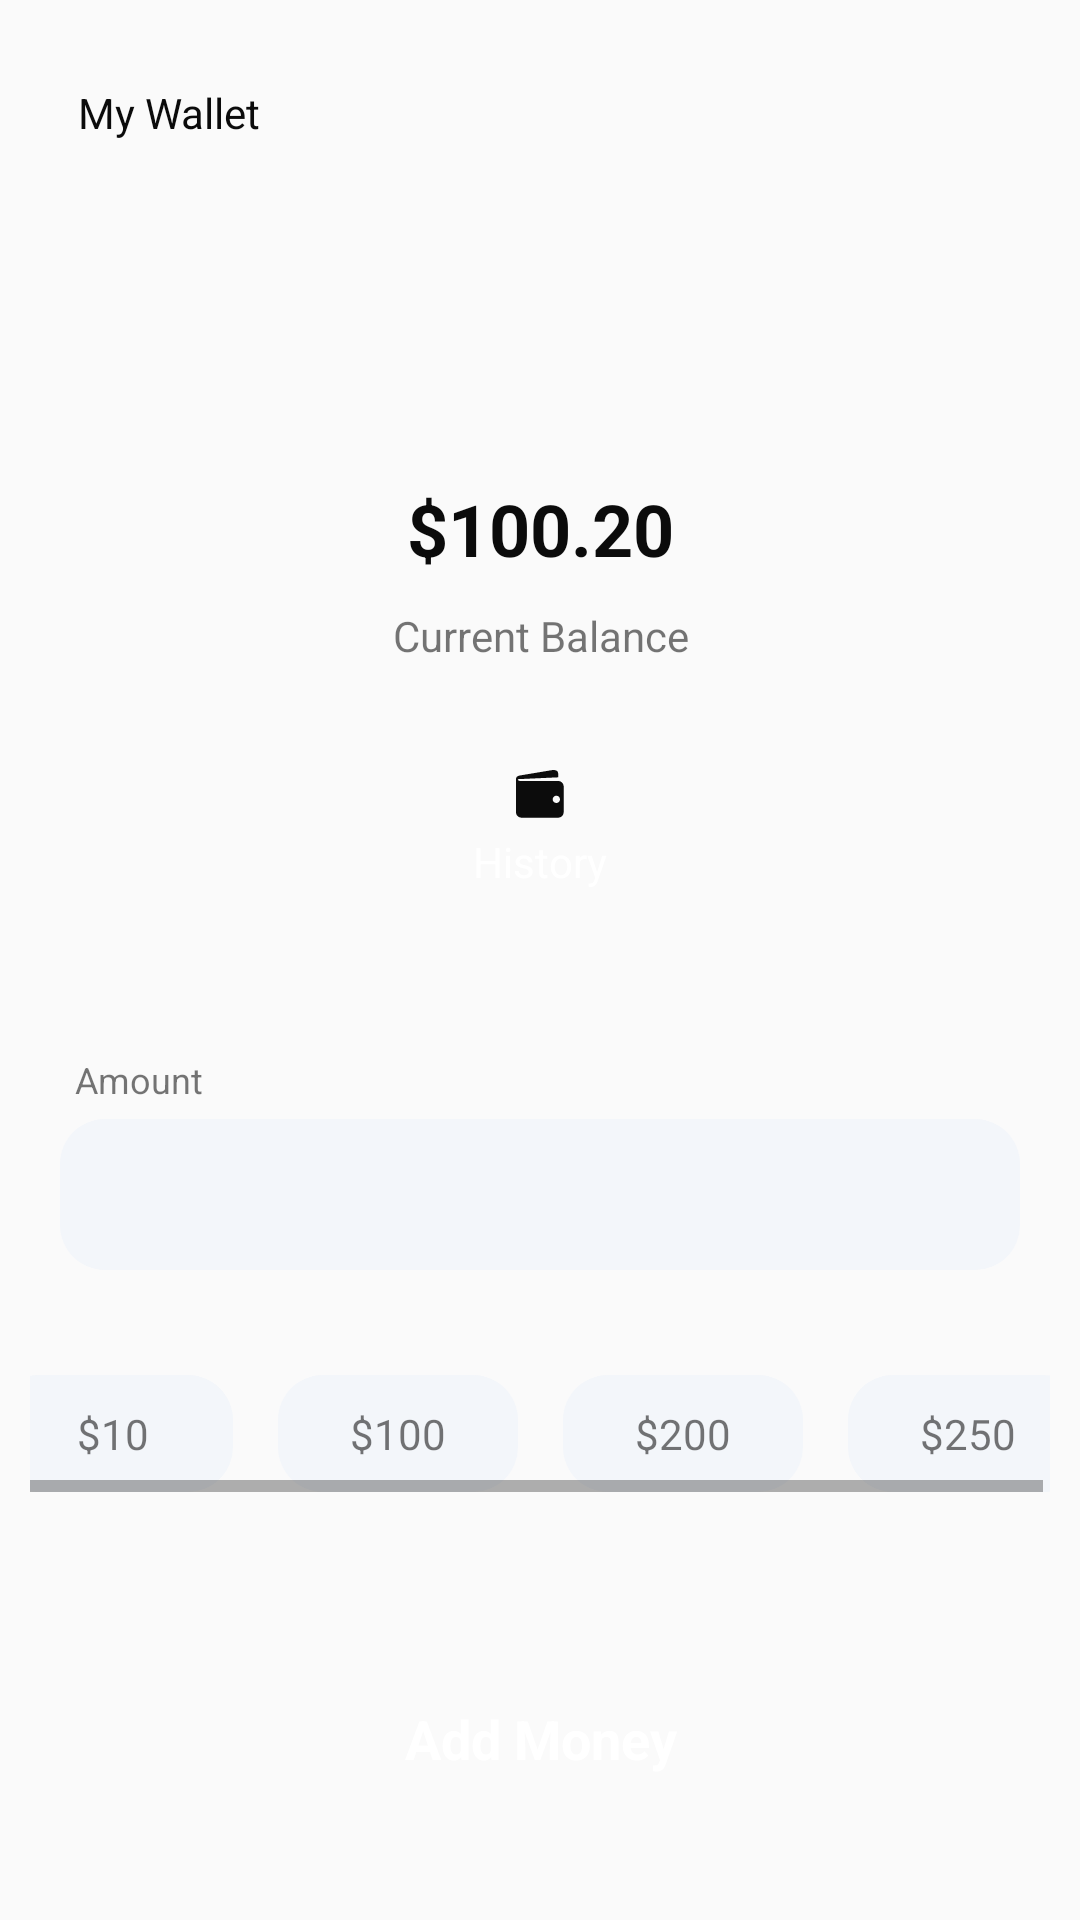

Named icons in this screenshot (1080x1920) and their centers, point (x, y):
wallet: point (540, 794)
